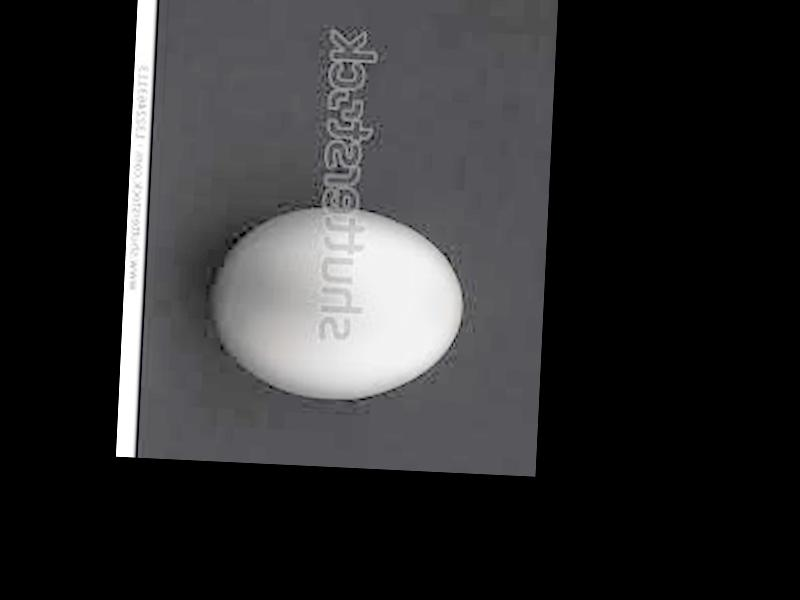Eggs: (211, 207, 469, 406)
